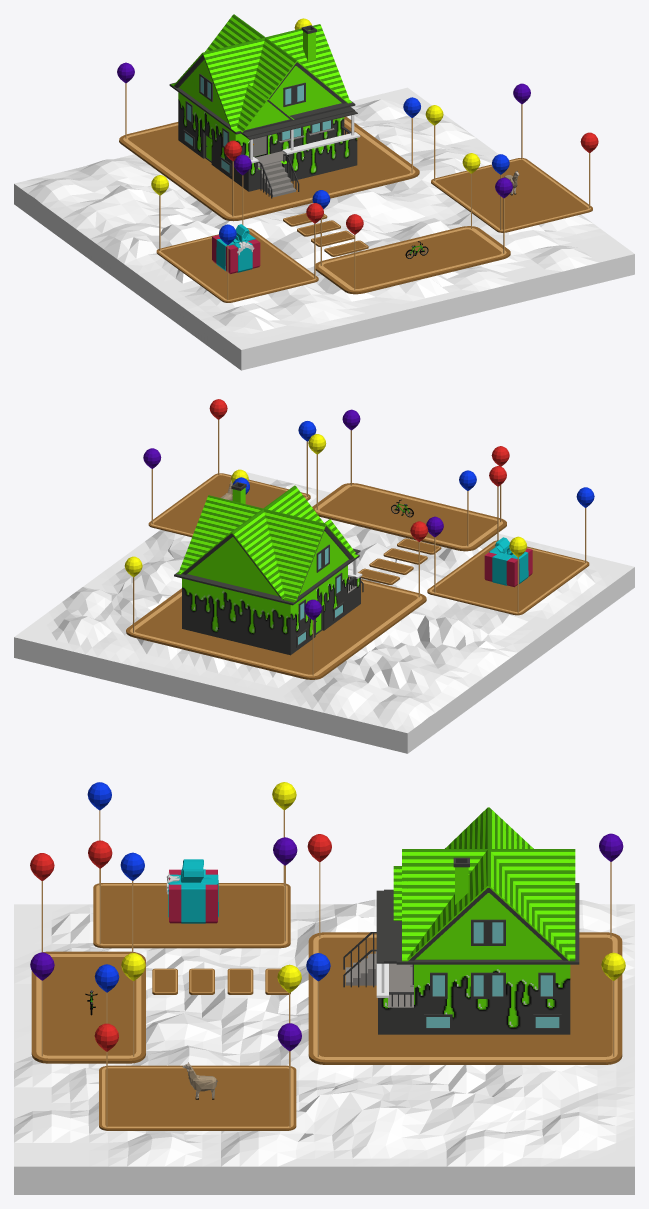
3 renders of one model, top to bottom at view 1: azimuth 30°, elevation 25°; view 2: azimuth 150°, elevation 25°; view 3: azimuth 270°, elevation 25°, orthographic. The views are drawn at different scales.
Parts seen in each view (by area): view 1: Cube.013, Cube.754, OBJRANDOM_GIANT_PRESENT; view 2: Cube.013, Cube.754, OBJRANDOM_GIANT_PRESENT; view 3: Cube.013, Cube.754, OBJRANDOM_GIANT_PRESENT.
Boxes of the visible parts, x1,y1,x2,y2 form: Cube.013: [14, 18, 634, 370]; Cube.754: [169, 14, 360, 198]; OBJRANDOM_GIANT_PRESENT: [212, 224, 260, 273]; Cube.013: [14, 399, 634, 753]; Cube.754: [174, 482, 363, 655]; OBJRANDOM_GIANT_PRESENT: [484, 537, 532, 587]; Cube.013: [14, 782, 634, 1194]; Cube.754: [343, 807, 579, 1034]; OBJRANDOM_GIANT_PRESENT: [166, 859, 218, 923].
Bounding box in the file's own units: 4000 × 1637 × 4000.
30 materials, 3 textured.
